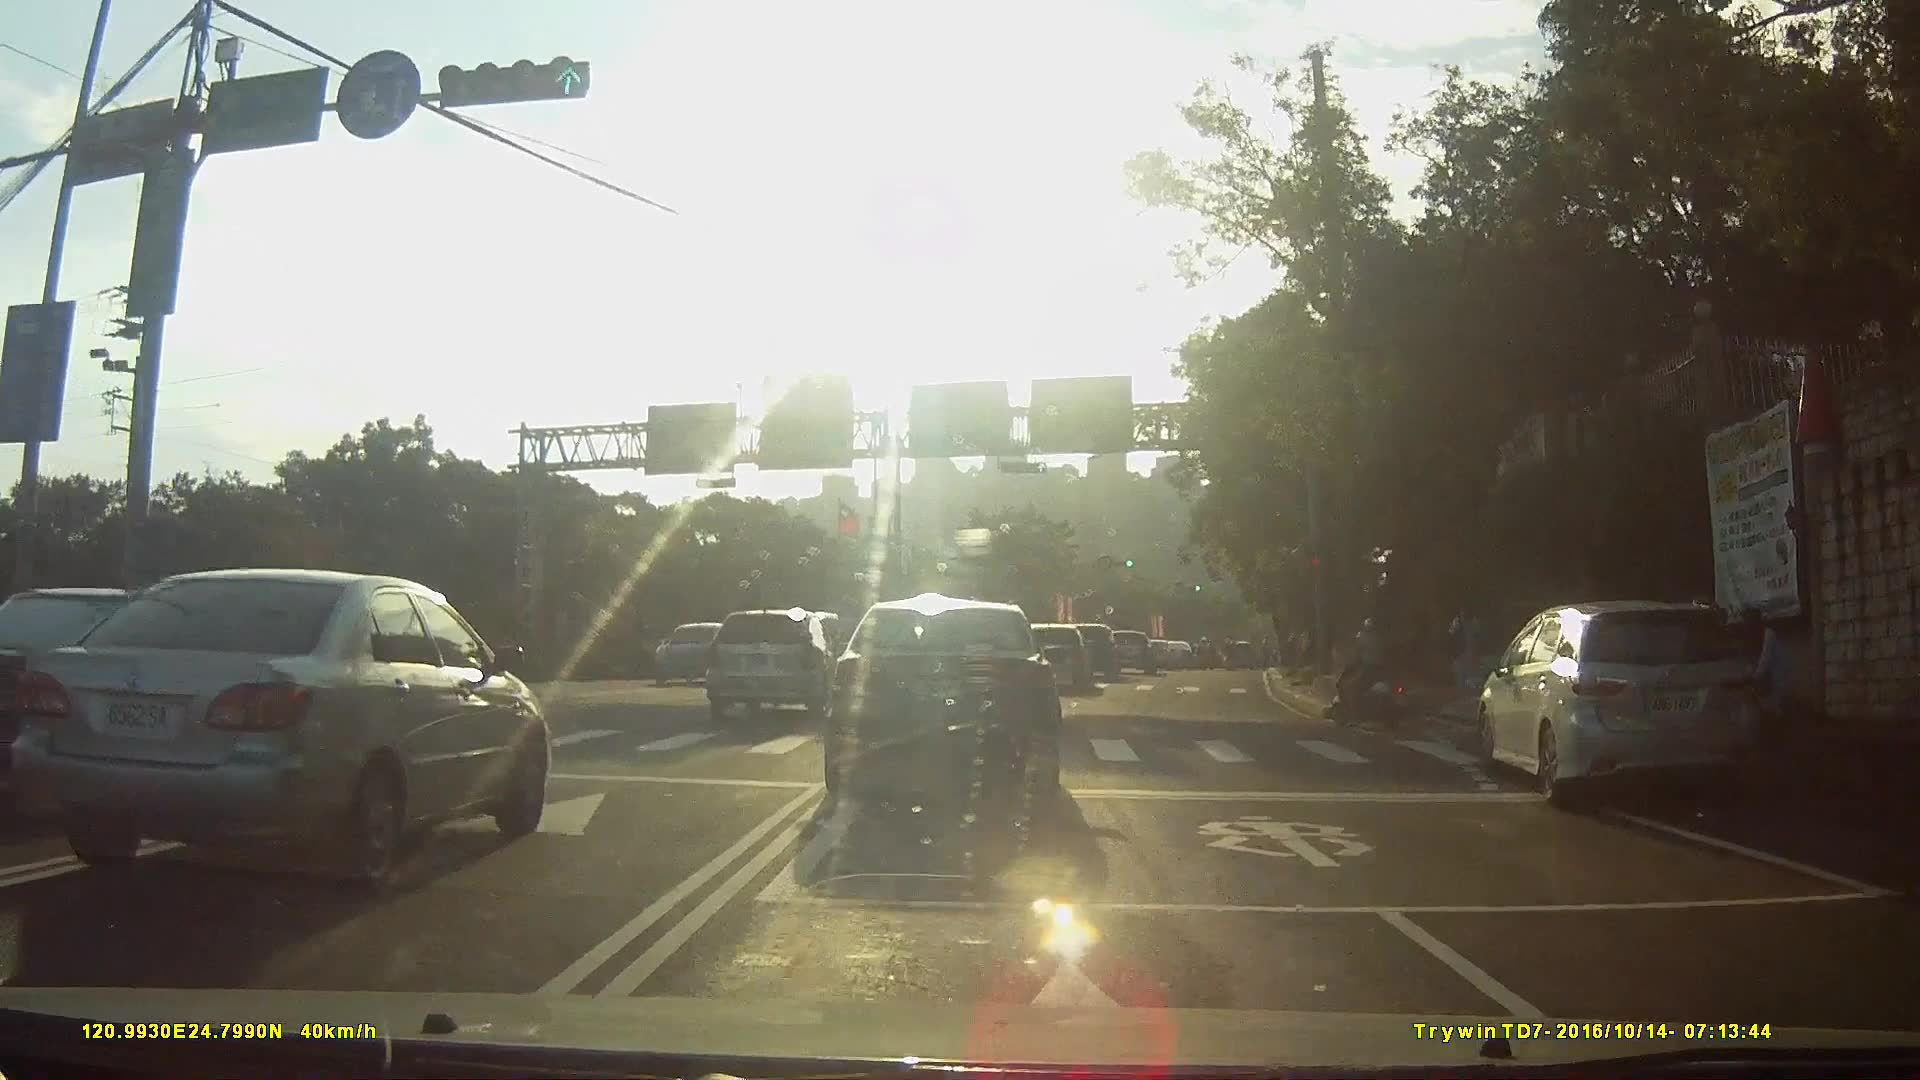pedestrian: (1741, 604, 1799, 732), (1445, 595, 1494, 708)
rider: (1328, 614, 1420, 730)
vehicle: (22, 565, 564, 886), (1464, 598, 1784, 821), (1, 571, 251, 831), (813, 597, 1081, 816), (714, 606, 860, 718), (649, 620, 745, 691), (1031, 623, 1105, 693), (1067, 622, 1129, 680), (1110, 631, 1167, 677), (1172, 641, 1205, 669)
